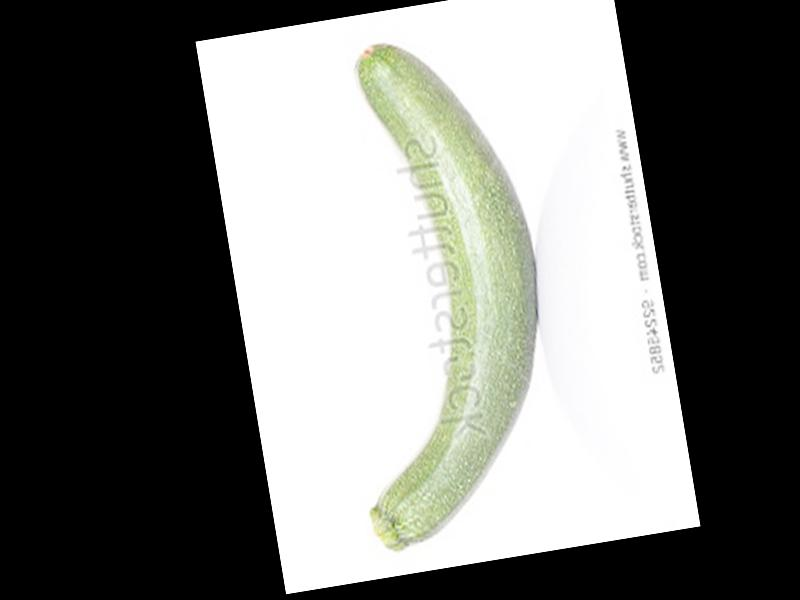Cucumber: (294, 25, 576, 552)
